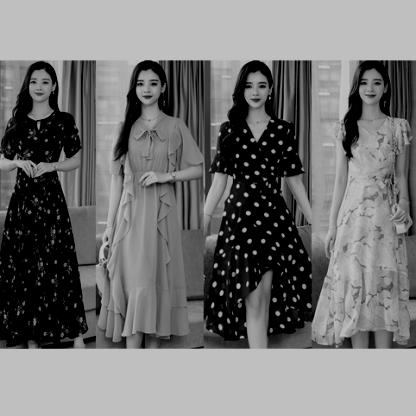dress: (99, 114, 201, 340), (206, 116, 310, 330), (1, 109, 87, 340), (329, 116, 415, 335)
jean: (206, 59, 311, 339), (313, 60, 416, 344), (102, 60, 200, 344), (0, 63, 91, 344)
